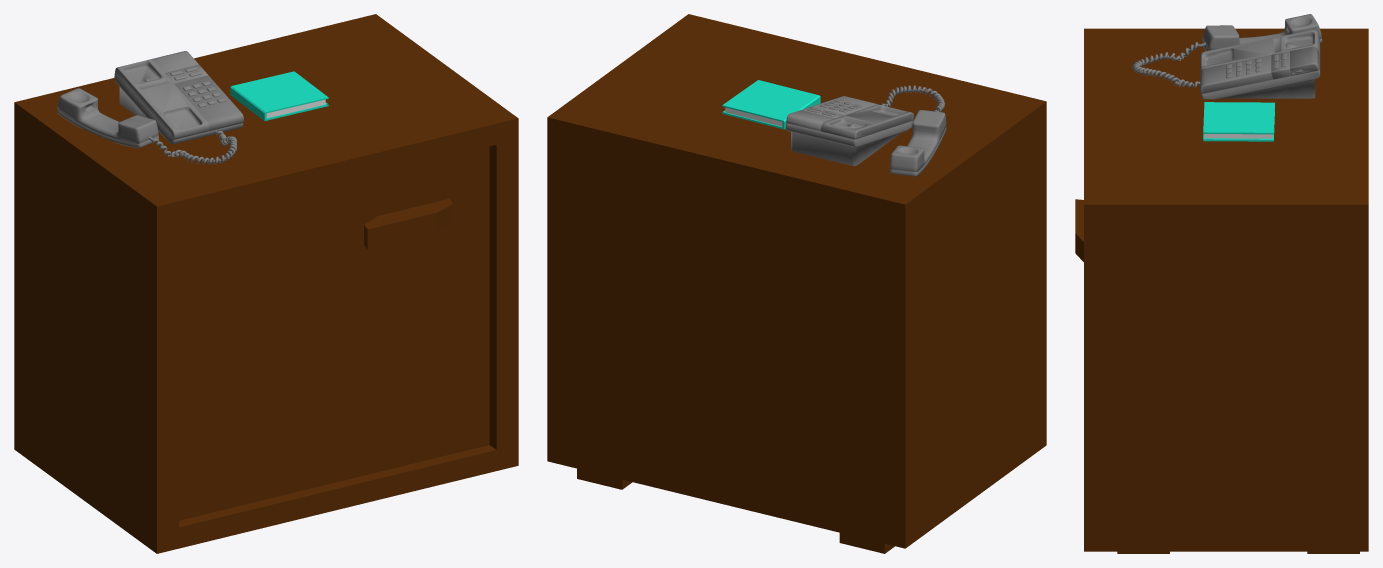
Rendered from Phone.fbx.
3 views of the same model, side by side, from view 1: azimuth 30°, elevation 25°; view 2: azimuth 150°, elevation 25°; view 3: azimuth 270°, elevation 25° (orthographic).
Visible parts, largest first — view 1: Cube, Phone, Cube.001; view 2: Cube, Phone, Cube.001, Cube.002; view 3: Cube, Phone, Cube.001.
Part boxes in pixels (left/top/right/bottom): Cube: left=14, top=14, right=518, bottom=553; Phone: left=57, top=51, right=243, bottom=164; Cube.001: left=230, top=71, right=328, bottom=120; Cube: left=547, top=14, right=1046, bottom=548; Phone: left=785, top=85, right=946, bottom=176; Cube.001: left=722, top=80, right=820, bottom=129; Cube.002: left=577, top=468, right=894, bottom=553; Cube: left=1075, top=28, right=1368, bottom=551; Phone: left=1132, top=14, right=1322, bottom=99; Cube.001: left=1203, top=102, right=1274, bottom=141.
Bounding box in the file's own units: 530 × 558 × 373.
